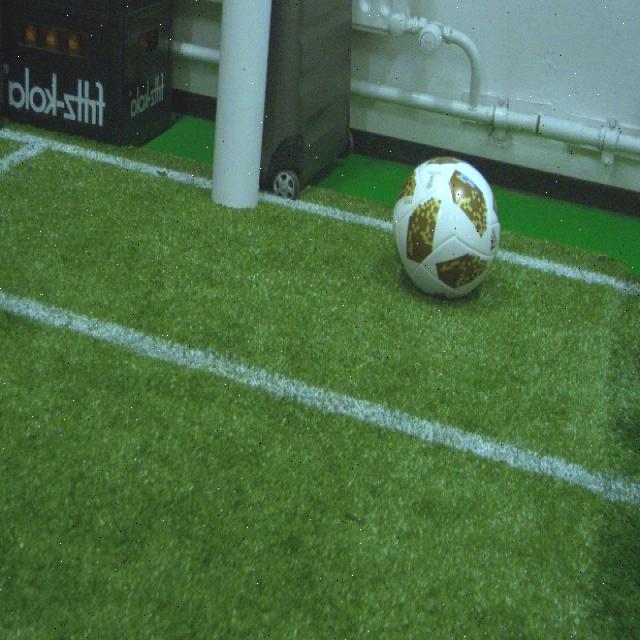ball: (390, 157, 503, 295)
goalpost: (210, 2, 270, 210)
